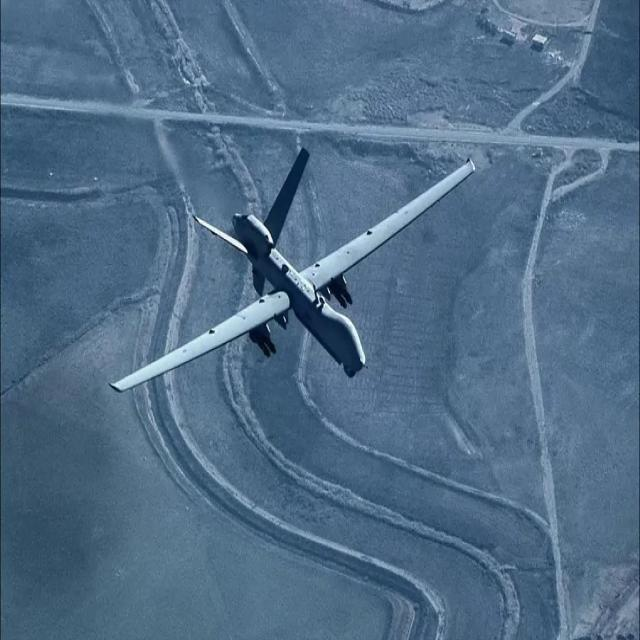MQ9: (74, 100, 510, 440)
